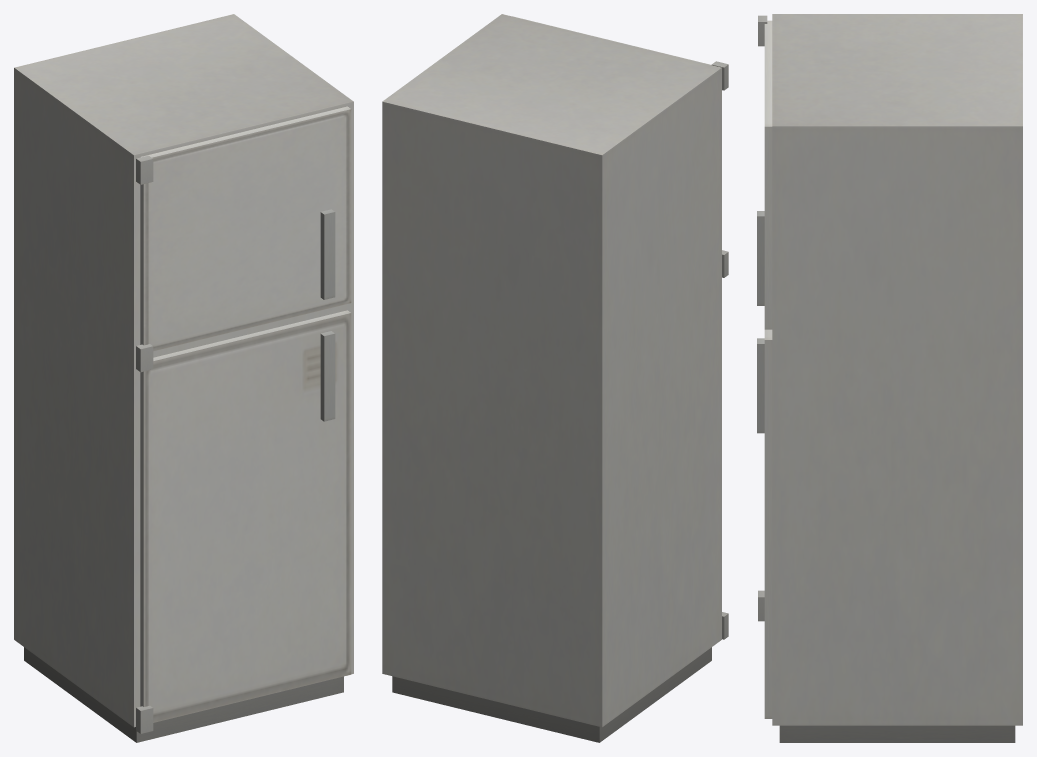
File: fridge.glb
The picture shows the model from 3 angles, left to right: view 1: azimuth 30°, elevation 25°; view 2: azimuth 150°, elevation 25°; view 3: azimuth 270°, elevation 25°; orthographic projection. The views are drawn at different scales.
Parts seen in each view (by area): view 1: core_fridge; view 2: core_fridge; view 3: core_fridge.
Boxes of the visible parts, bbox=[...] form: core_fridge: bbox=[14, 14, 353, 742]; core_fridge: bbox=[382, 14, 728, 742]; core_fridge: bbox=[757, 14, 1022, 742].
Bounding box in the file's own units: 0.7 × 1.8 × 0.7.
1 material, 1 textured.
